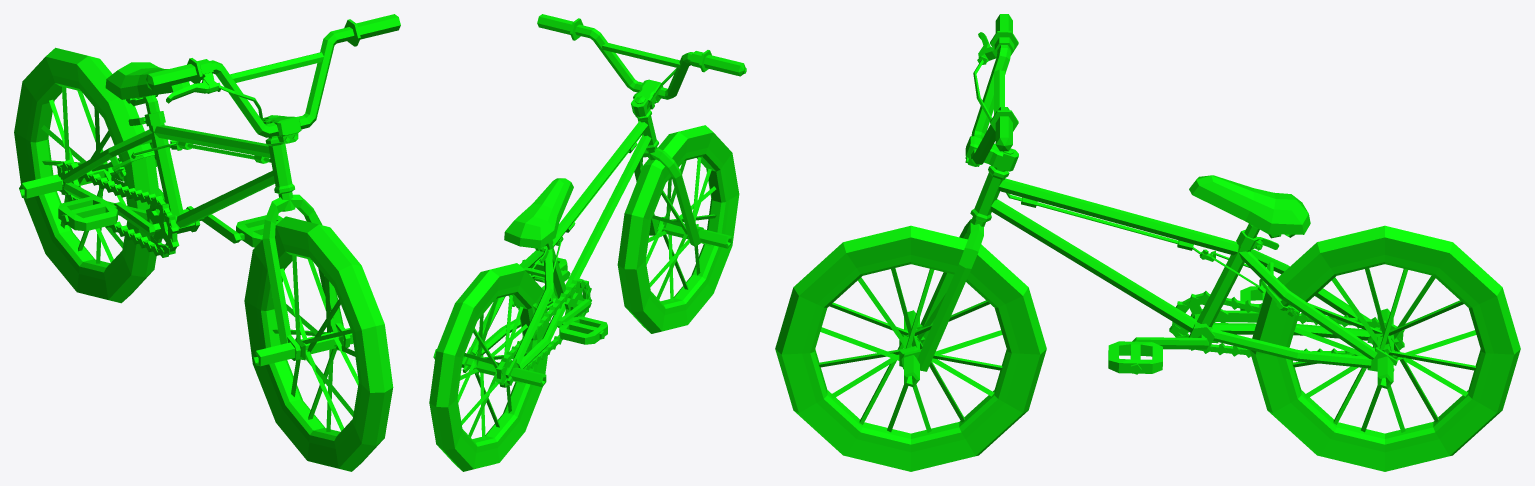
The model's file is SM_Bike_BMX_Modern.fbx.
3 views of the same model, side by side, from view 1: azimuth 30°, elevation 25°; view 2: azimuth 150°, elevation 25°; view 3: azimuth 270°, elevation 25° (orthographic). The views are drawn at different scales.
Parts seen in each view (by area): view 1: SM_Bike_BMX_Modern_Wheel_F, SM_Bike_BMX_Modern_Wheel_B, SM_Bike_BMX_Modern_Base, SM_Bike_BMX_Modern_Handlebars, SM_Bike_BMX_Modern_Crank_Pedal_R, SM_Bike_BMX_Modern_Crank_Pedal_L, SM_Bike_BMX_Modern_Crank_Arm_R, SM_Bike_BMX_Modern_Crank_Arm_L; view 2: SM_Bike_BMX_Modern_Wheel_F, SM_Bike_BMX_Modern_Wheel_B, SM_Bike_BMX_Modern_Base, SM_Bike_BMX_Modern_Handlebars, SM_Bike_BMX_Modern_Crank_Pedal_R; view 3: SM_Bike_BMX_Modern_Wheel_F, SM_Bike_BMX_Modern_Wheel_B, SM_Bike_BMX_Modern_Base, SM_Bike_BMX_Modern_Handlebars, SM_Bike_BMX_Modern_Crank_Pedal_L.
Part boxes in pixels (x1,y1,x2,y2): SM_Bike_BMX_Modern_Wheel_F: (244,216,393,471); SM_Bike_BMX_Modern_Wheel_B: (14,47,159,303); SM_Bike_BMX_Modern_Base: (19,62,294,257); SM_Bike_BMX_Modern_Handlebars: (146,14,400,366); SM_Bike_BMX_Modern_Crank_Pedal_R: (58,196,117,231); SM_Bike_BMX_Modern_Crank_Pedal_L: (236,215,282,247); SM_Bike_BMX_Modern_Crank_Arm_R: (114,202,155,236); SM_Bike_BMX_Modern_Crank_Arm_L: (202,214,241,243); SM_Bike_BMX_Modern_Wheel_F: (617,125,739,333); SM_Bike_BMX_Modern_Wheel_B: (429,263,549,471); SM_Bike_BMX_Modern_Base: (433,110,658,387); SM_Bike_BMX_Modern_Handlebars: (537,14,746,248); SM_Bike_BMX_Modern_Crank_Pedal_R: (559,316,607,344); SM_Bike_BMX_Modern_Wheel_F: (775,225,1046,471); SM_Bike_BMX_Modern_Wheel_B: (1249,225,1520,471); SM_Bike_BMX_Modern_Base: (970,165,1404,388); SM_Bike_BMX_Modern_Handlebars: (901,14,1018,387); SM_Bike_BMX_Modern_Crank_Pedal_L: (1108,341,1162,374).
Bounding box in the file's own units: 0.7313 × 1.08 × 1.82.
